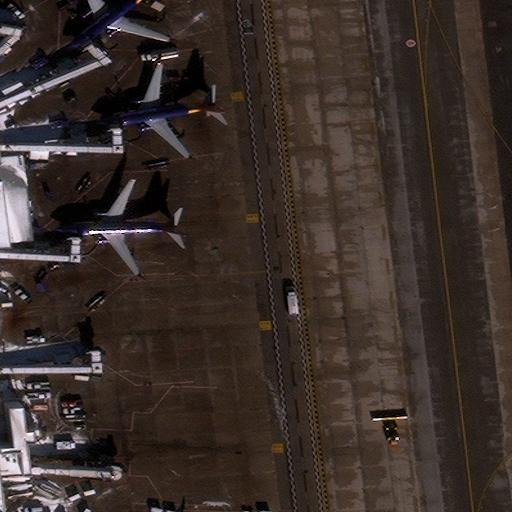Medium Civil Transport: (101, 63, 224, 157), (65, 179, 186, 274), (70, 0, 168, 47)
